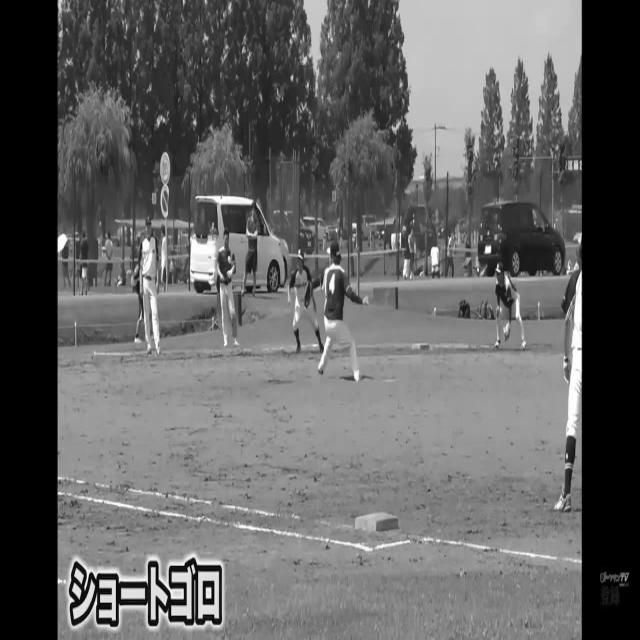base: (350, 508, 400, 531)
baseball: (363, 296, 370, 306)
baseball_glove: (304, 280, 318, 308)
shoe: (555, 491, 575, 521), (313, 353, 325, 375), (352, 368, 366, 380)
